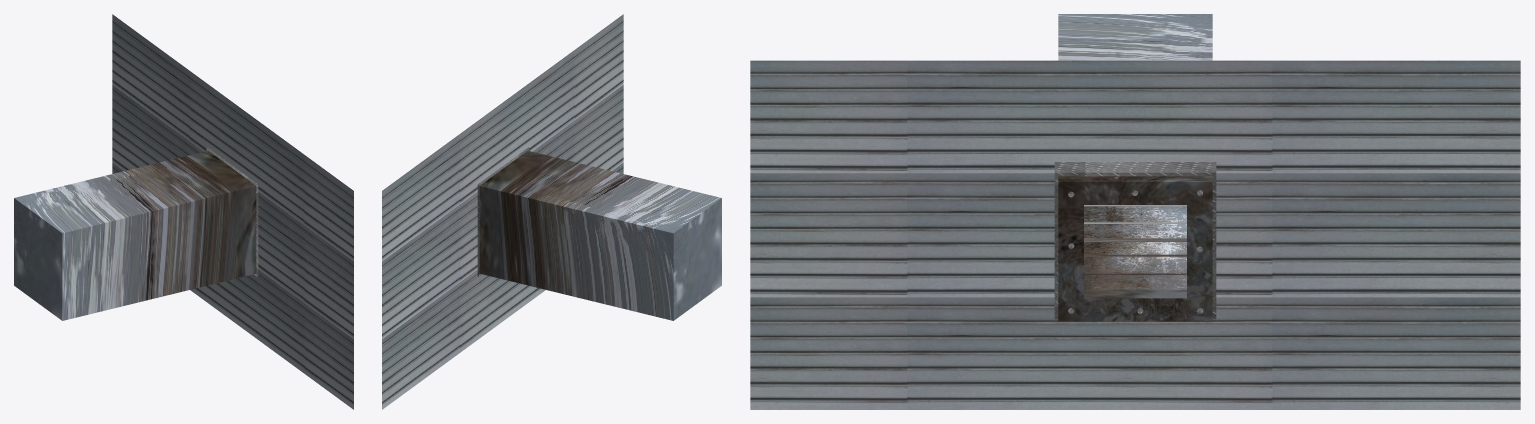
Rendered from Vent2.fbx.
The picture shows the model from 3 angles, left to right: view 1: azimuth 30°, elevation 25°; view 2: azimuth 150°, elevation 25°; view 3: azimuth 270°, elevation 25°; orthographic projection. The views are drawn at different scales.
Visible parts, largest first — view 1: Plane.001, Cube; view 2: Plane.001, Cube; view 3: Plane.001, Cube, Plane.002, Cube.009.
Boxes of the visible parts, bbox=[...] form: Plane.001: bbox=[112, 14, 353, 409]; Cube: bbox=[14, 151, 256, 320]; Plane.001: bbox=[382, 14, 623, 409]; Cube: bbox=[479, 151, 721, 320]; Plane.001: bbox=[750, 60, 1520, 409]; Cube: bbox=[1058, 14, 1212, 321]; Plane.002: bbox=[1084, 206, 1186, 289]; Cube.009: bbox=[1054, 162, 1216, 319].
Bounding box in the file's own units: 1059 × 1000 × 2000.
Materials: 5 (4 with a texture image).
